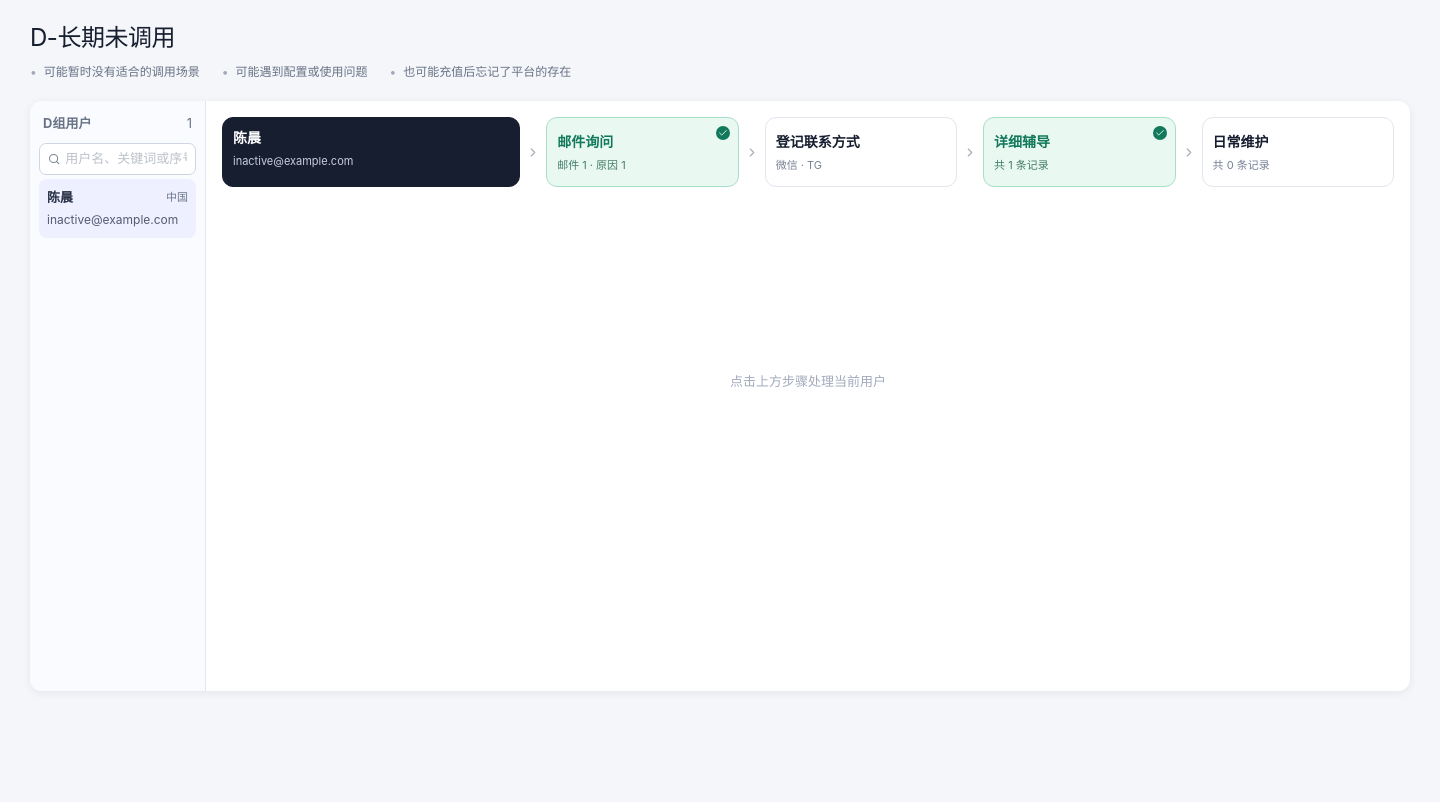
Test case: DGroupWorkspace › records group guidance, tutorials and personalized promotions
Click the button "详细辅导 共 1 条记录". click: (1079, 152)
box: [983, 117, 1176, 187]
(page scrolled)
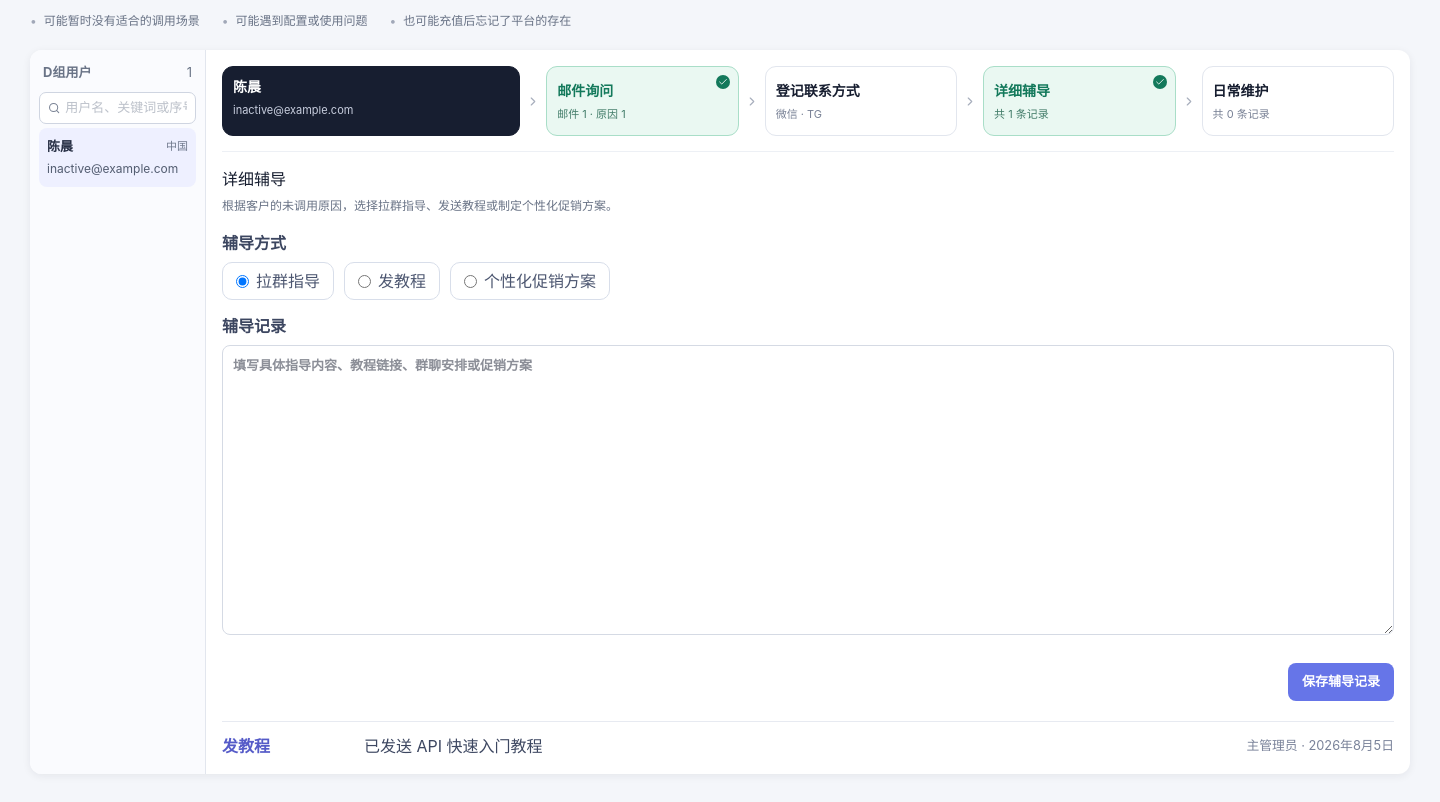
Check: the radio button labelled "拉群指导" is shown, box [236, 274, 249, 288]
Check: the radio button labelled "发教程" is shown, box [358, 274, 371, 288]
Check: the radio button labelled "个性化促销方案" is shown, box [464, 274, 477, 288]
